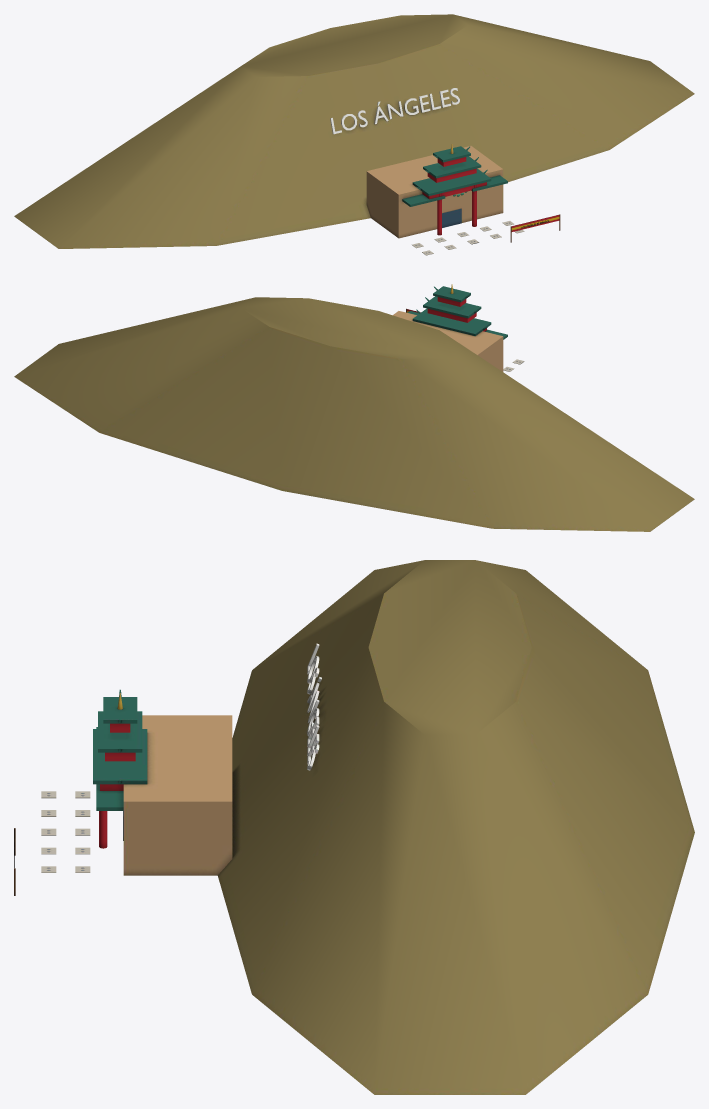
The model's file is teatro_chino.glb.
3 renders of one model, top to bottom at view 1: azimuth 30°, elevation 25°; view 2: azimuth 150°, elevation 25°; view 3: azimuth 270°, elevation 25°, orthographic. The views are drawn at different scales.
Visible parts, largest first — view 1: teatro_chino; view 2: teatro_chino; view 3: teatro_chino.
Boxes of the visible parts, x1,y1,x2,y2 form: teatro_chino: [14, 14, 694, 255]; teatro_chino: [14, 284, 694, 531]; teatro_chino: [14, 560, 694, 1094].
Size of the model in its own units: 183 by 30 by 100.
1 material, 1 textured.
